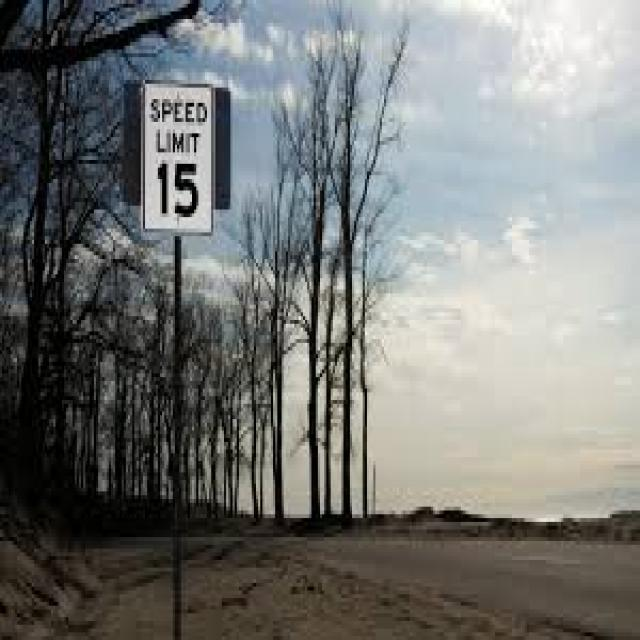speedLimit15: (138, 82, 216, 234)
